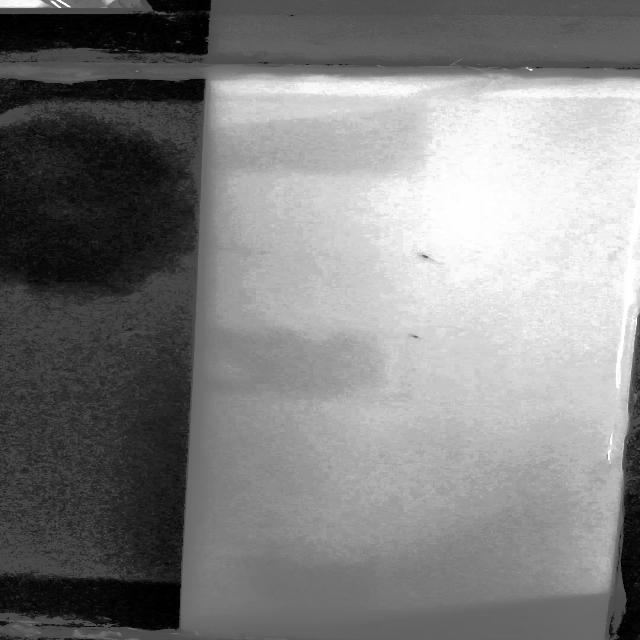shrimp: (409, 248, 436, 265), (401, 332, 432, 344)
